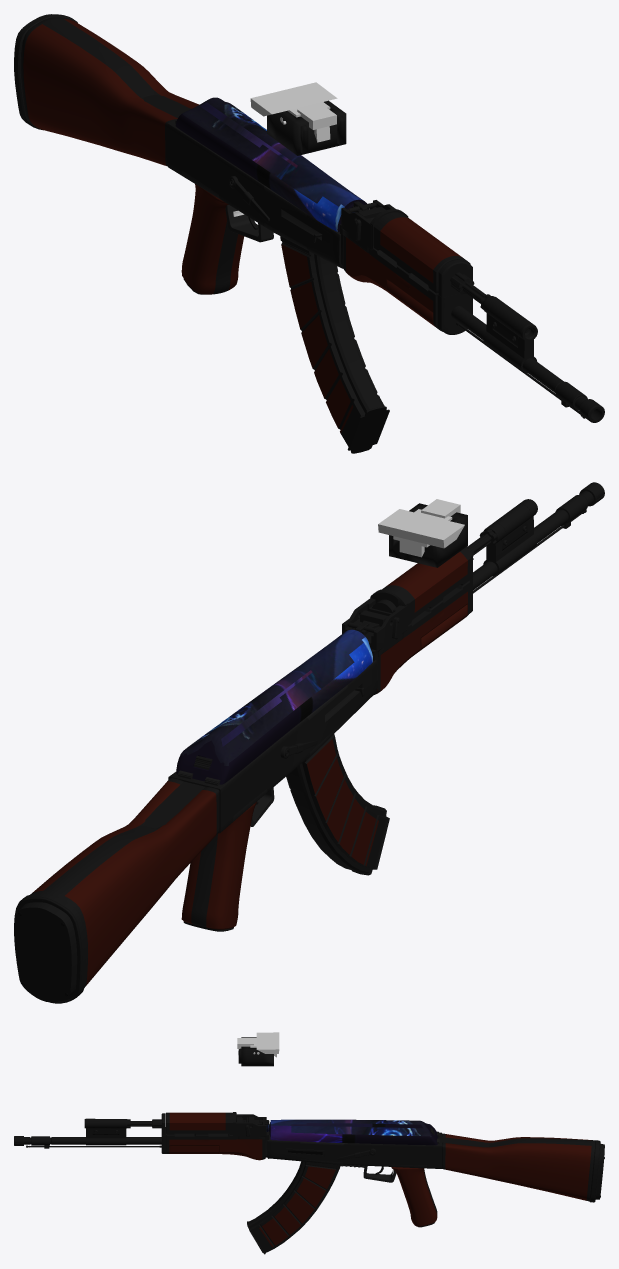
The picture shows the model from 3 angles, top to bottom: view 1: azimuth 30°, elevation 25°; view 2: azimuth 150°, elevation 25°; view 3: azimuth 270°, elevation 25°; orthographic projection. The views are drawn at different scales.
Parts seen in each view (by area): view 1: polySurface6.001_Mesh.015, pCube9_Mesh.013, pCylinder25.001_Bolt.003, receiver_Cube.007, pCube10.002_Mesh.017, polySurface30_Cylinder, polySurface22.001_Mesh.010, pTorus4.002_Mesh.009, polySurface7.003_Mesh.020, Cutter.008_Cutter.011, pTorus4.001_Mesh.018, polySurface6.002_Mesh.019 (+5 smaller); view 2: polySurface6.001_Mesh.015, pCylinder25.001_Bolt.003, pCube9_Mesh.013, receiver_Cube.007, polySurface7.001_Mesh.016, pCube10.002_Mesh.017, pTorus4.001_Mesh.018, polySurface30_Cylinder, Cutter.008_Cutter.011, polySurface22.001_Mesh.010, pTorus4.002_Mesh.009, polySurface6.002_Mesh.019 (+2 smaller); view 3: polySurface6.001_Mesh.015, pCylinder25.001_Bolt.003, pCube9_Mesh.013, receiver_Cube.007, pCube10.002_Mesh.017, polySurface30_Cylinder, polySurface22.001_Mesh.010, pTorus4.001_Mesh.018, polySurface6.002_Mesh.019, polySurface7.001_Mesh.016, pTorus4.002_Mesh.009, Cutter.008_Cutter.011 (+3 smaller).
Boxes of the visible parts, left/top/right/bottom form: polySurface6.001_Mesh.015: left=20, top=17, right=470, bottom=331; pCube9_Mesh.013: left=280, top=236, right=389, bottom=453; pCylinder25.001_Bolt.003: left=175, top=97, right=368, bottom=231; receiver_Cube.007: left=143, top=94, right=343, bottom=268; pCube10.002_Mesh.017: left=181, top=184, right=244, bottom=294; polySurface30_Cylinder: left=451, top=306, right=604, bottom=422; polySurface22.001_Mesh.010: left=450, top=272, right=537, bottom=372; pTorus4.002_Mesh.009: left=267, top=100, right=346, bottom=155; polySurface7.003_Mesh.020: left=370, top=209, right=472, bottom=334; Cutter.008_Cutter.011: left=250, top=82, right=337, bottom=116; pTorus4.001_Mesh.018: left=341, top=200, right=395, bottom=252; polySurface6.002_Mesh.019: left=368, top=240, right=438, bottom=302; polySurface6.001_Mesh.015: left=30, top=549, right=470, bottom=987; pCylinder25.001_Bolt.003: left=176, top=629, right=372, bottom=784; pCube9_Mesh.013: left=286, top=734, right=389, bottom=875; receiver_Cube.007: left=144, top=660, right=377, bottom=833; polySurface7.001_Mesh.016: left=14, top=893, right=85, bottom=1002; pCube10.002_Mesh.017: left=181, top=802, right=256, bottom=931; pTorus4.001_Mesh.018: left=342, top=598, right=407, bottom=656; polySurface30_Cylinder: left=473, top=482, right=604, bottom=593; Cutter.008_Cutter.011: left=378, top=509, right=464, bottom=548; polySurface22.001_Mesh.010: left=466, top=499, right=537, bottom=575; pTorus4.002_Mesh.009: left=389, top=503, right=467, bottom=567; polySurface6.002_Mesh.019: left=403, top=572, right=470, bottom=637; polySurface6.001_Mesh.015: left=166, top=1112, right=594, bottom=1201; pCylinder25.001_Bolt.003: left=266, top=1119, right=438, bottom=1145; pCube9_Mesh.013: left=247, top=1161, right=340, bottom=1254; receiver_Cube.007: left=267, top=1131, right=489, bottom=1168; pCube10.002_Mesh.017: left=391, top=1167, right=437, bottom=1227; polySurface30_Cylinder: left=14, top=1136, right=161, bottom=1148; polySurface22.001_Mesh.010: left=84, top=1118, right=161, bottom=1145; pTorus4.001_Mesh.018: left=234, top=1114, right=269, bottom=1139; polySurface6.002_Mesh.019: left=166, top=1130, right=238, bottom=1139; polySurface7.001_Mesh.016: left=589, top=1140, right=604, bottom=1202; pTorus4.002_Mesh.009: left=238, top=1037, right=273, bottom=1066; Cutter.008_Cutter.011: left=256, top=1032, right=279, bottom=1053.
Size of the model in its own units: 0.116 by 0.3133 by 0.8568.
Materials: 9 (1 with a texture image).
